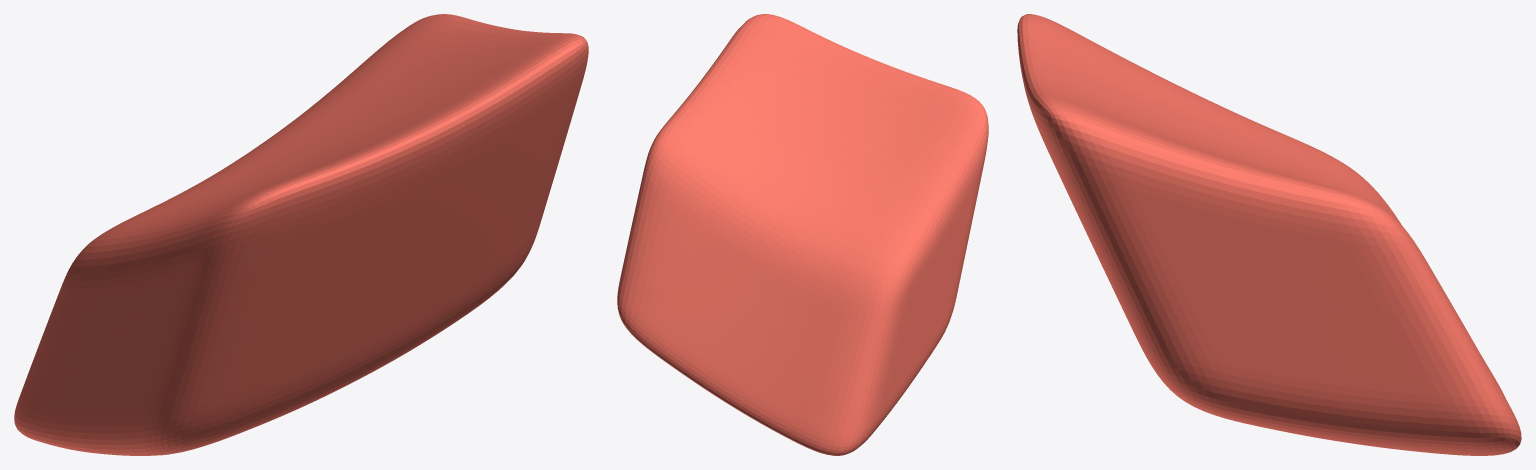
3 views of the same model, side by side, from view 1: azimuth 30°, elevation 25°; view 2: azimuth 150°, elevation 25°; view 3: azimuth 270°, elevation 25° (orthographic). The views are drawn at different scales.
Visible parts, largest first — view 1: waves_1.035; view 2: waves_1.035; view 3: waves_1.035.
Part boxes in pixels (box(x1,y1,x2,y2)): waves_1.035: box(14, 14, 588, 455); waves_1.035: box(617, 14, 988, 455); waves_1.035: box(1017, 14, 1521, 455).
Size of the model in its own units: 30.13 by 34.1 by 32.96.
